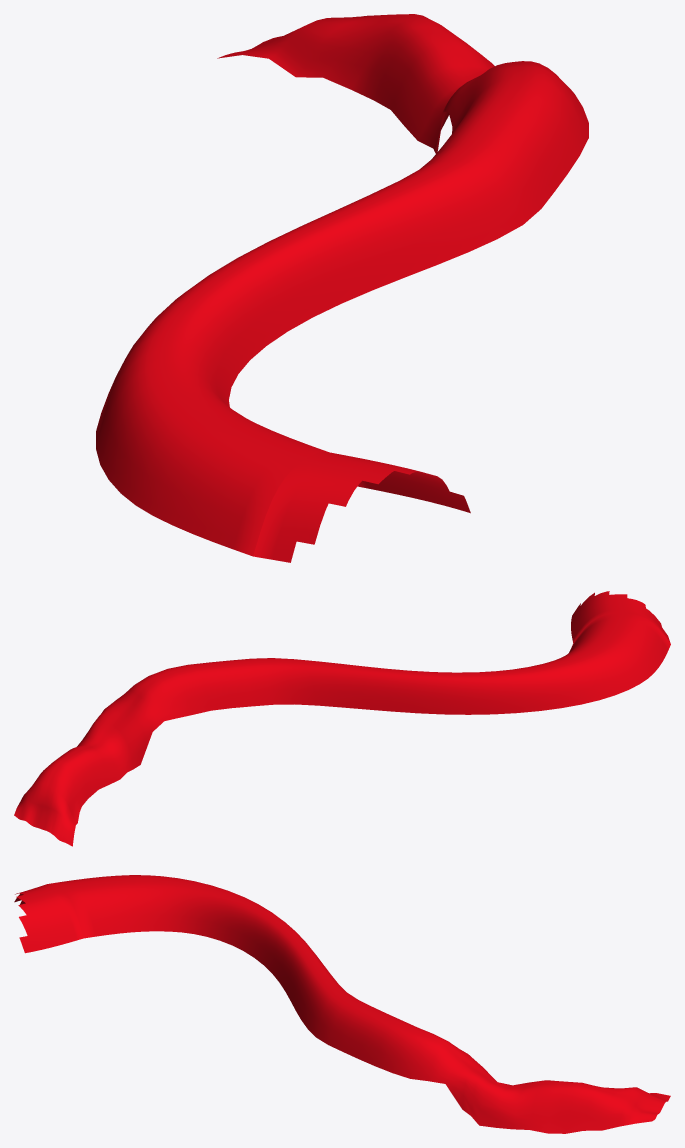
Rendered from River4.fbx.
3 renders of one model, top to bottom at view 1: azimuth 30°, elevation 25°; view 2: azimuth 150°, elevation 25°; view 3: azimuth 270°, elevation 25°, orthographic. The views are drawn at different scales.
Parts seen in each view (by area): view 1: River4_LOD0; view 2: River4_LOD0; view 3: River4_LOD0.
Part boxes in pixels (x1,y1,x2,y2): River4_LOD0: [96, 14, 588, 562]; River4_LOD0: [14, 591, 670, 846]; River4_LOD0: [14, 875, 670, 1133].
Size of what is drawn, in the model's own units: 4163 by 788 by 5841.
